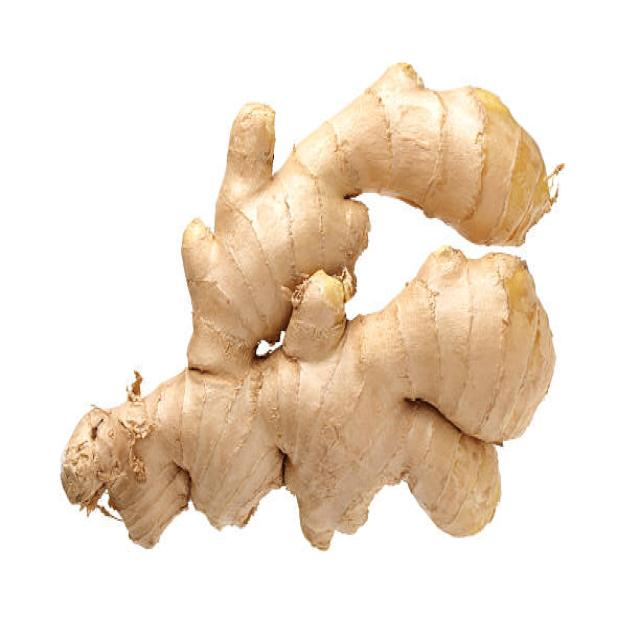ginger-root: (58, 58, 572, 580)
